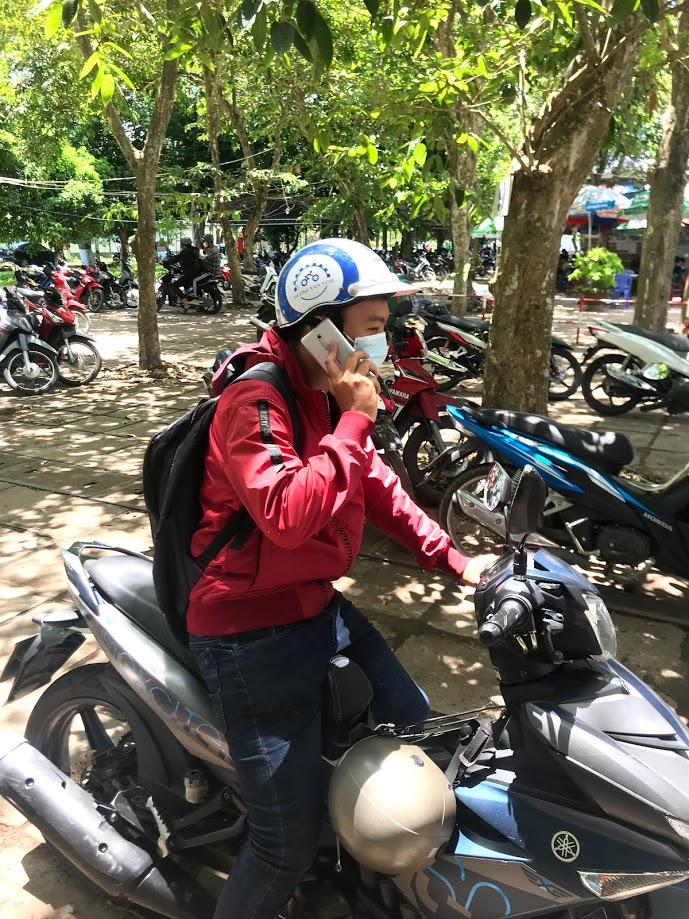dieu khien xe may: (209, 234, 689, 911)
su dung dien thoai: (271, 238, 397, 429)
